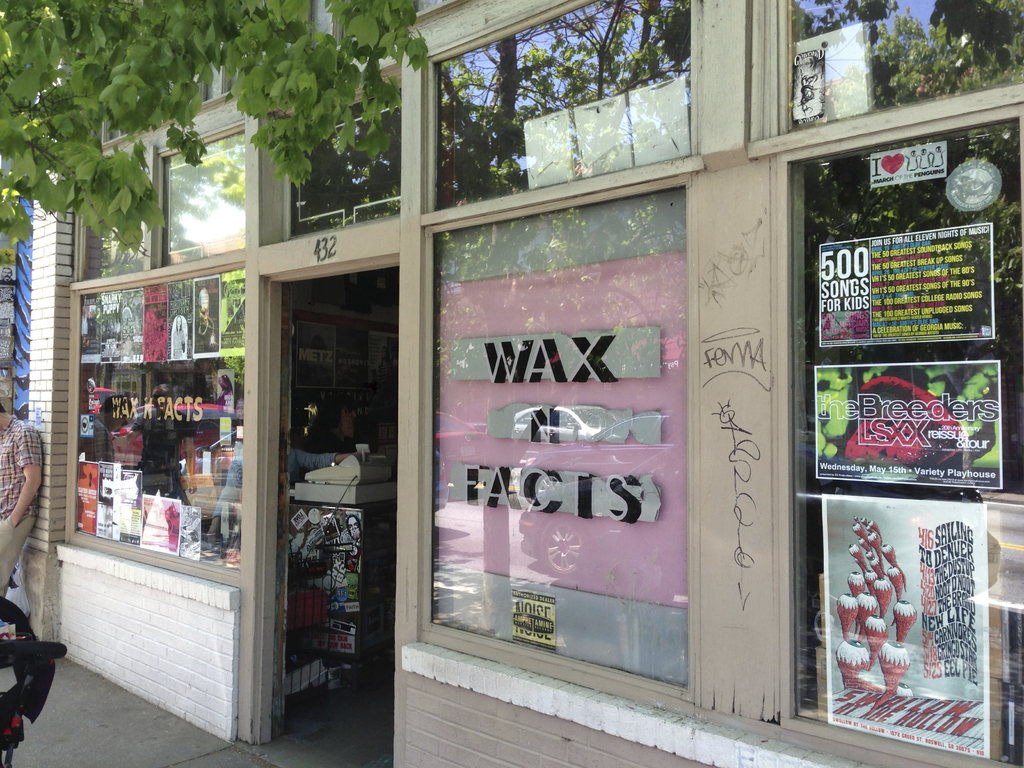Person: (205, 443, 362, 545), (107, 386, 204, 503), (0, 402, 42, 597)
